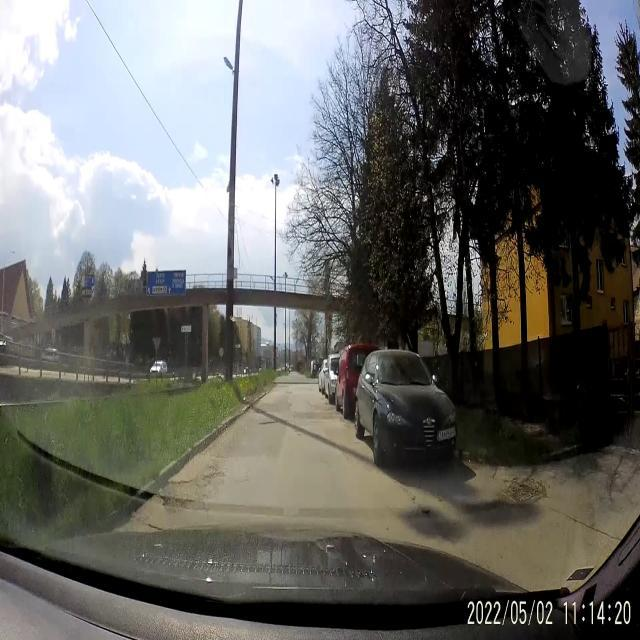Pothole: (158, 474, 206, 516), (204, 462, 230, 484), (260, 421, 277, 426)
